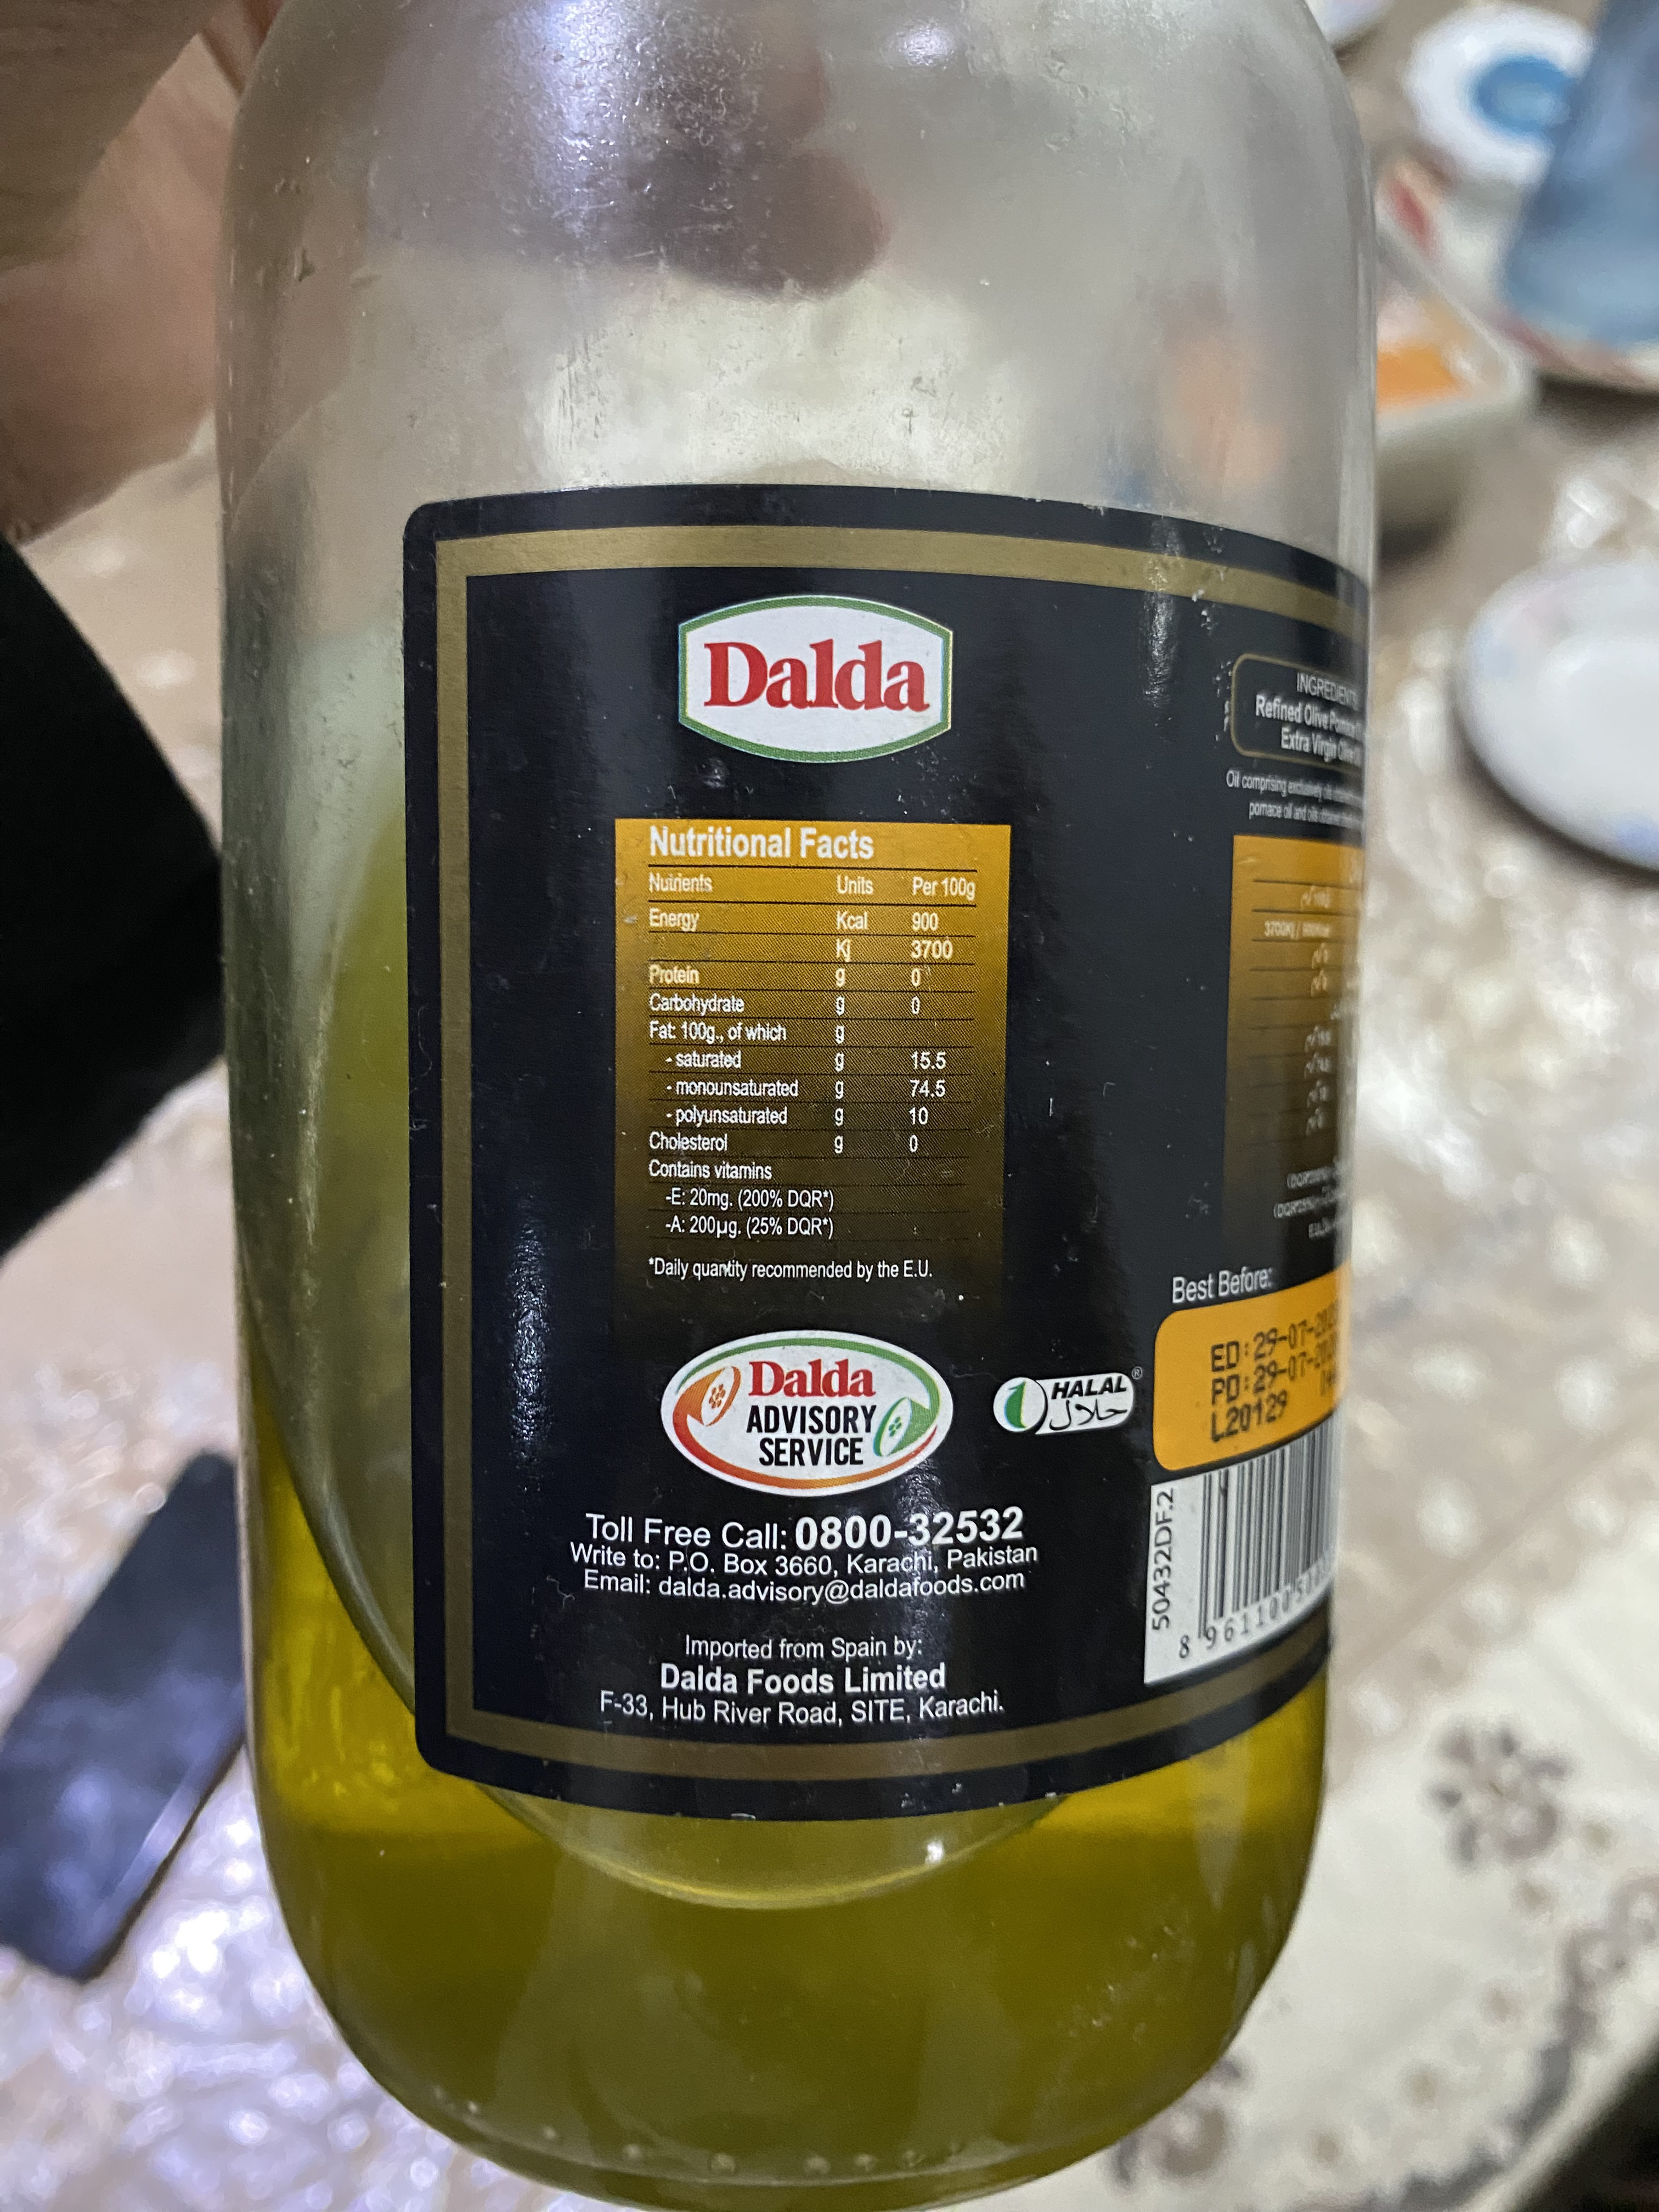table: (598, 812, 1019, 1353)
